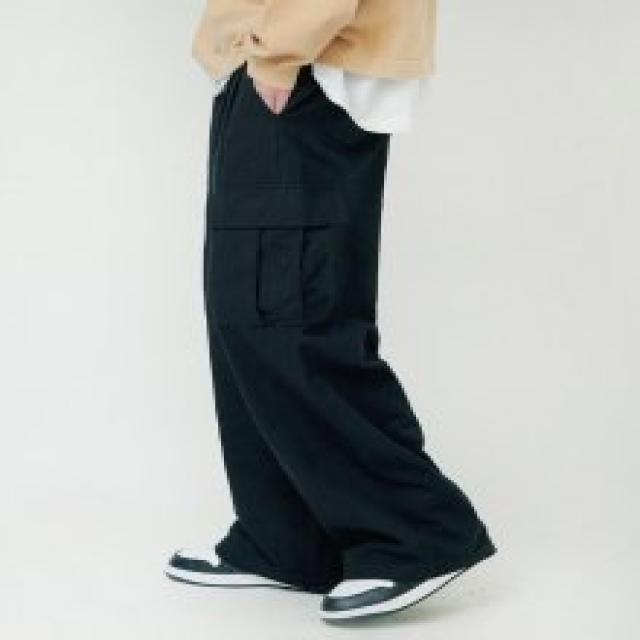long-pants: (206, 61, 504, 590)
